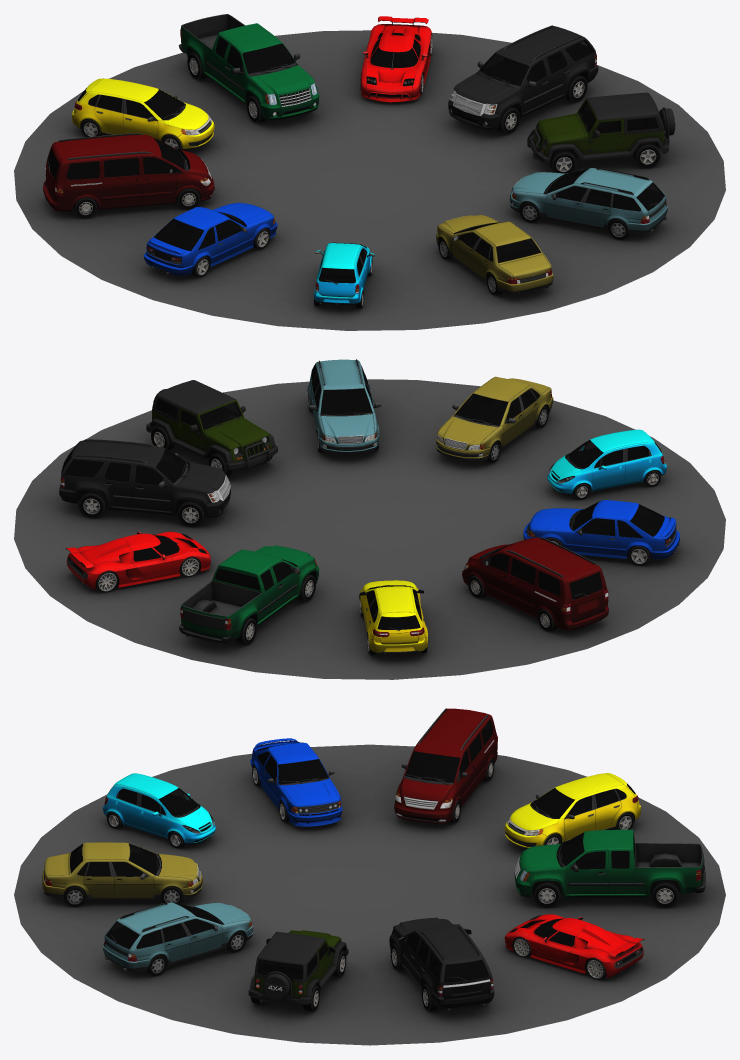
Rendered from cars.web.glb.
The picture shows the model from 3 angles, top to bottom: view 1: azimuth 30°, elevation 25°; view 2: azimuth 150°, elevation 25°; view 3: azimuth 270°, elevation 25°; orthographic projection.
Visible parts, largest first — view 1: Cylinder001, minivan body, SUV Body, Pickup Body, Wagon Body, Offroad Body, Hatchback Body, Coupe Body, Sedan Body, Sport body, Compact Body, Wheel_G001 (+1 smaller); view 2: Cylinder001, SUV Body, minivan body, Pickup Body, Offroad Body, Coupe Body, Sedan Body, Wagon Body, Sport body, Compact Body, Hatchback Body, Wheel_E003 (+1 smaller); view 3: Cylinder001, Pickup Body, minivan body, Sedan Body, Wagon Body, SUV Body, Hatchback Body, Coupe Body, Offroad Body, Sport body, Compact Body, Wheel_E001 (+1 smaller).
Boxes of the visible parts, x1,y1,x2,y2 form: Cylinder001: (14, 30, 725, 330); minivan body: (43, 133, 214, 211); SUV Body: (448, 25, 598, 130); Pickup Body: (178, 14, 319, 120); Wagon Body: (509, 168, 667, 234); Offroad Body: (527, 92, 675, 163); Hatchback Body: (72, 78, 214, 149); Coupe Body: (143, 202, 277, 275); Sedan Body: (436, 215, 553, 295); Sport body: (361, 16, 431, 102); Compact Body: (314, 242, 374, 305); Wheel_G001: (633, 142, 660, 168); Cylinder001: (14, 379, 725, 679); SUV Body: (59, 439, 230, 518); minivan body: (462, 537, 608, 630); Pickup Body: (179, 545, 319, 644); Offroad Body: (146, 380, 277, 470); Coupe Body: (523, 500, 679, 559); Sedan Body: (436, 376, 553, 461); Wagon Body: (307, 359, 381, 453); Sport body: (65, 531, 210, 589); Compact Body: (547, 429, 666, 494); Hatchback Body: (359, 580, 427, 655); Wheel_E003: (78, 490, 106, 518); Cylinder001: (14, 744, 725, 1045); Pickup Body: (514, 829, 705, 898); minivan body: (394, 708, 497, 823); Sedan Body: (42, 842, 203, 900); Wagon Body: (103, 902, 253, 971); SUV Body: (389, 917, 494, 1011); Hatchback Body: (504, 773, 641, 848); Coupe Body: (250, 738, 342, 826); Offroad Body: (248, 930, 348, 1005); Sport body: (504, 914, 644, 977); Compact Body: (102, 773, 215, 844); Wheel_E001: (651, 880, 678, 908).
Bounding box in the file's own units: 19.27 × 1.76 × 19.27.
41 materials, 31 textured.
